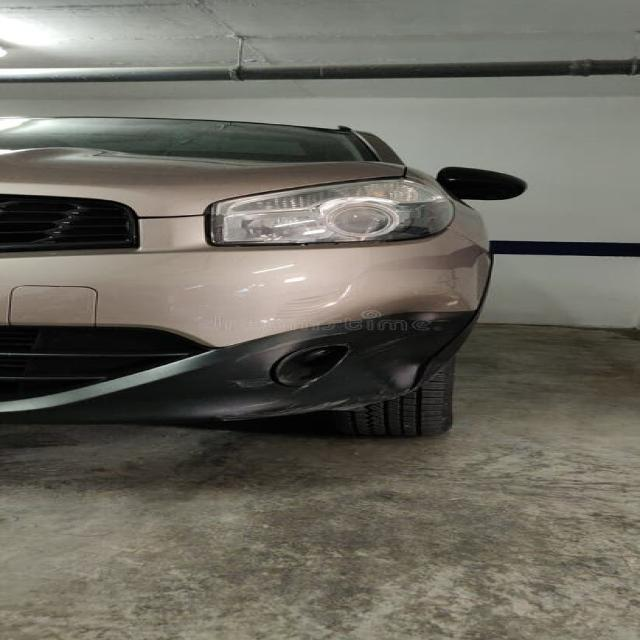dent: (275, 292, 475, 411)
scratch: (213, 377, 411, 421), (356, 336, 412, 359)
